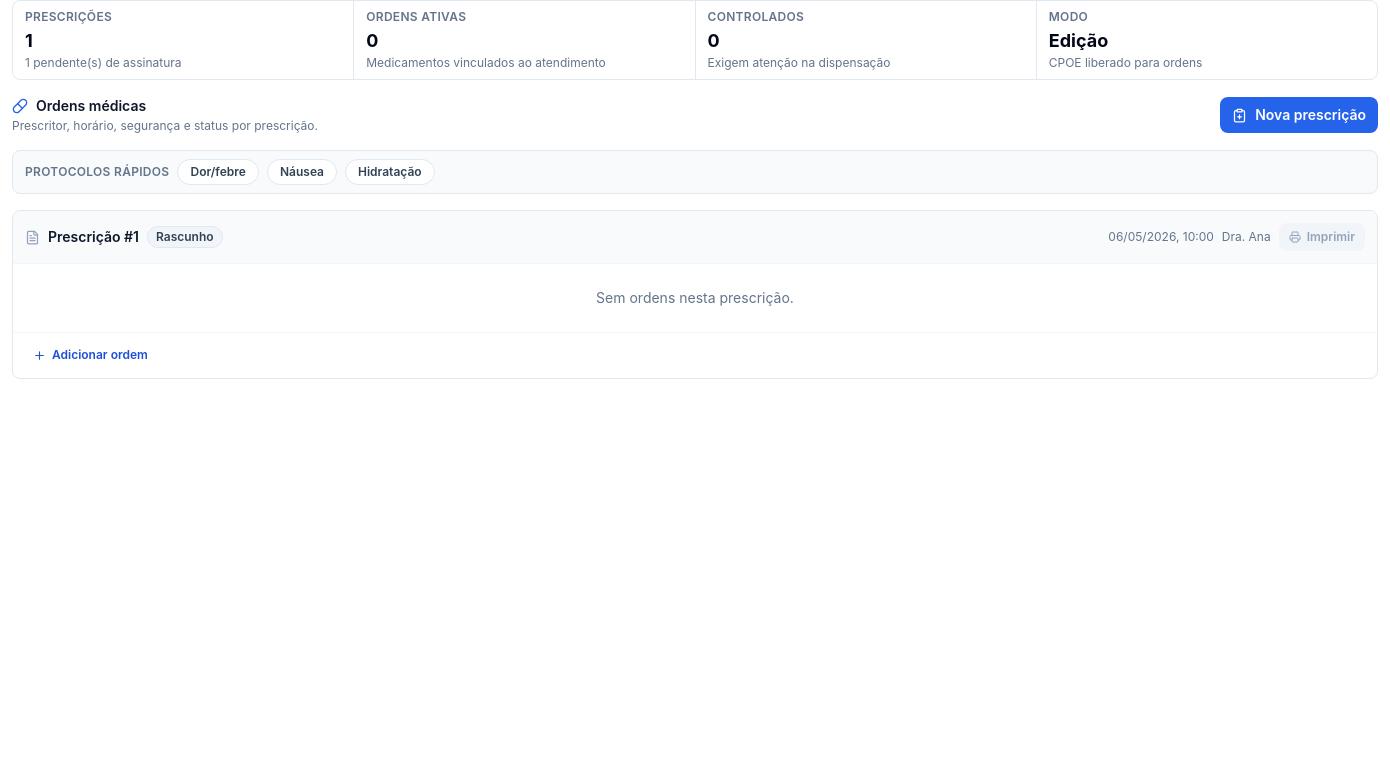
Test: PrescriptionBuilder › fills the composer from a quick CPOE preset and medication search
The width and height of the screenshot is (1390, 768).
Check: the text "Prescrição #1" is shown, box x1=48 y1=227 x2=139 y2=247
Step 1. Click the button "Adicionar ordem" → point(90, 355), box x1=25 y1=343 x2=156 y2=367
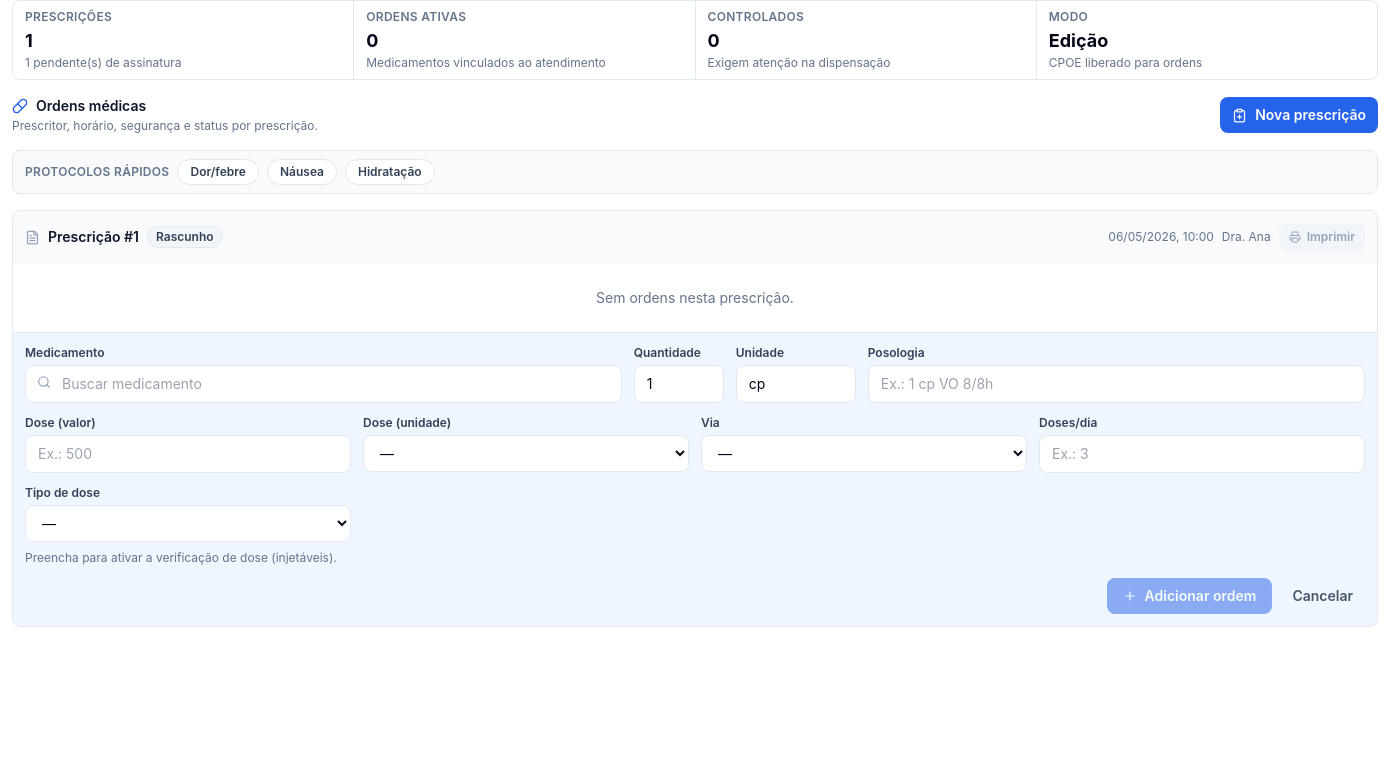
Step 2. Click the button "Dor/febre" → point(218, 172), box x1=178 y1=159 x2=259 y2=185
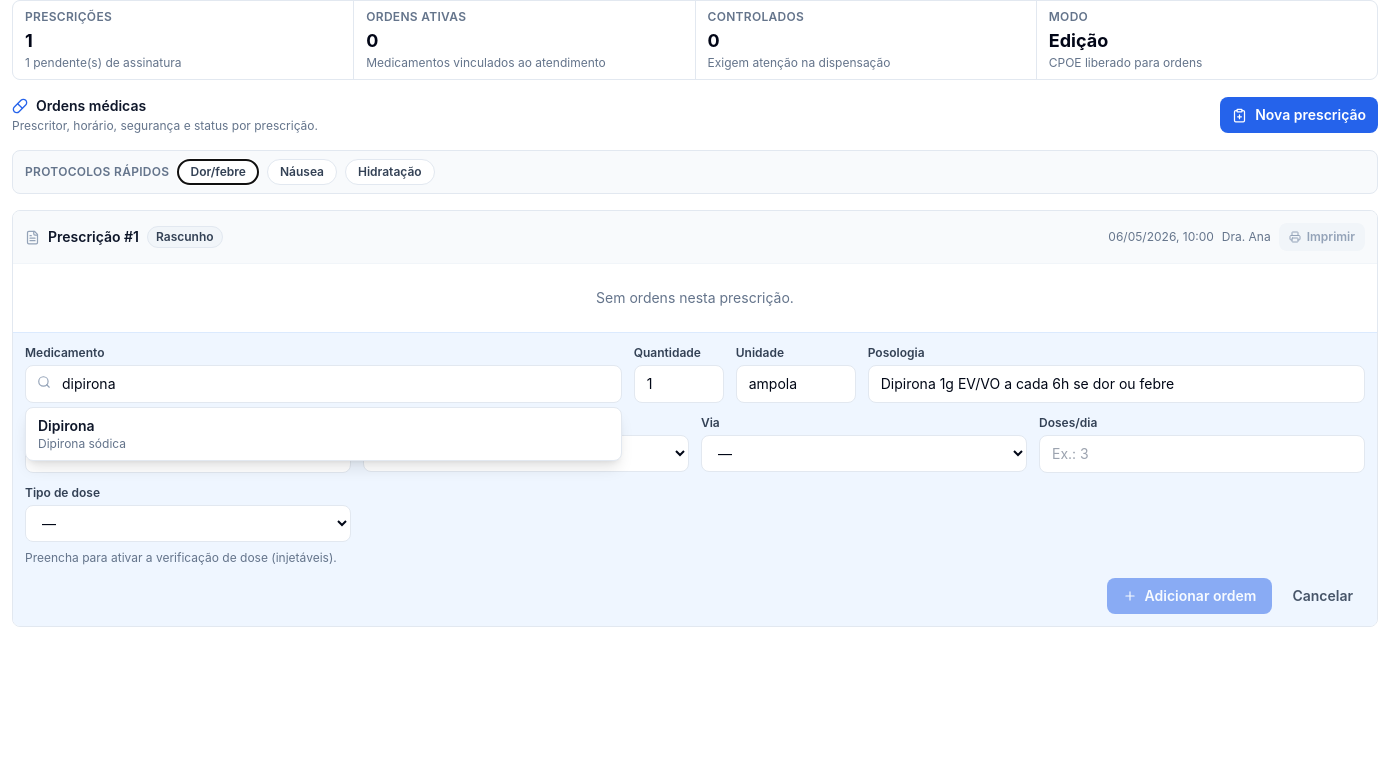
Check: the field named "Posologia" holds "Dipirona 1g EV/VO a cada 6h se dor ou febre", box x1=868 y1=365 x2=1365 y2=403
Check: the text "Dipirona sódica" is shown
Step 3. Click the text "Dipirona sódica" → point(82, 444), box x1=38 y1=436 x2=126 y2=452
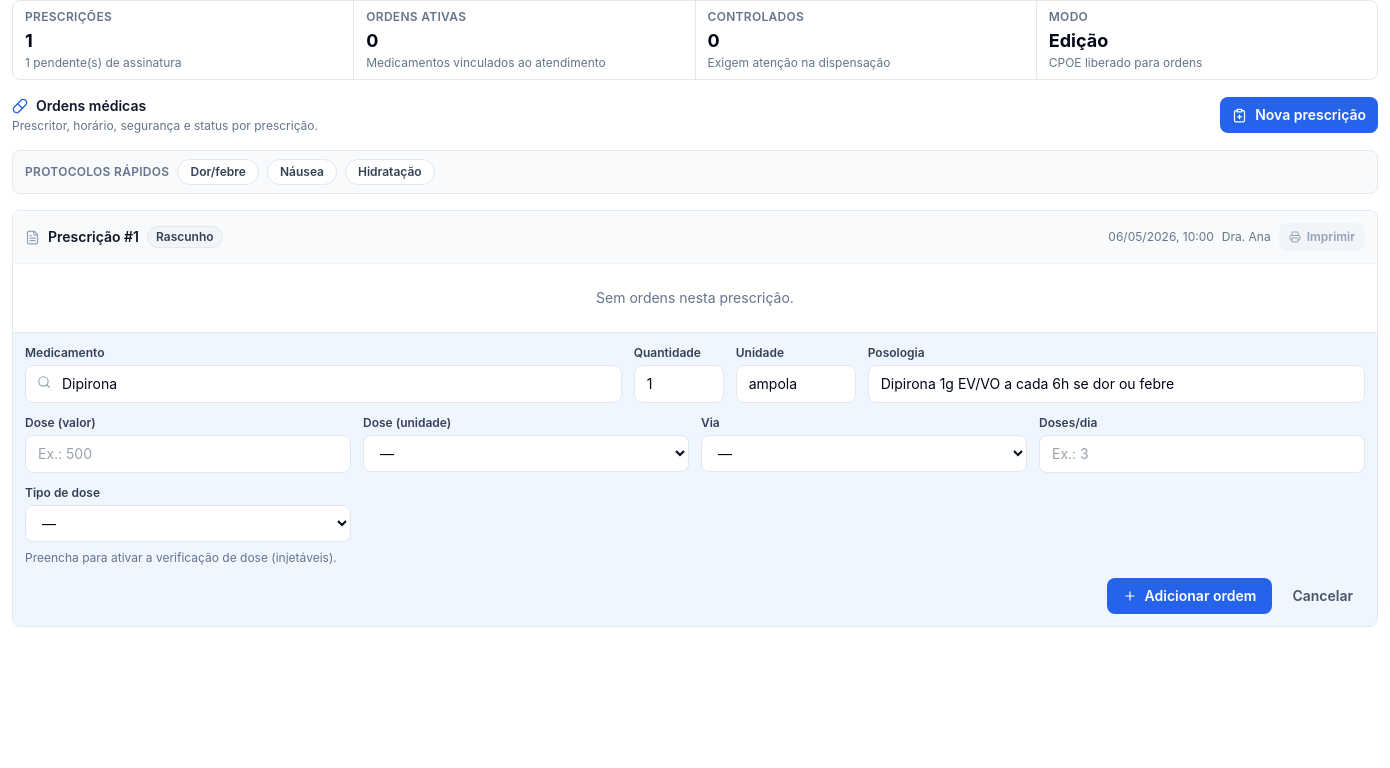
Check: the field named "medicamento" holds "Dipirona", box x1=25 y1=365 x2=622 y2=403
